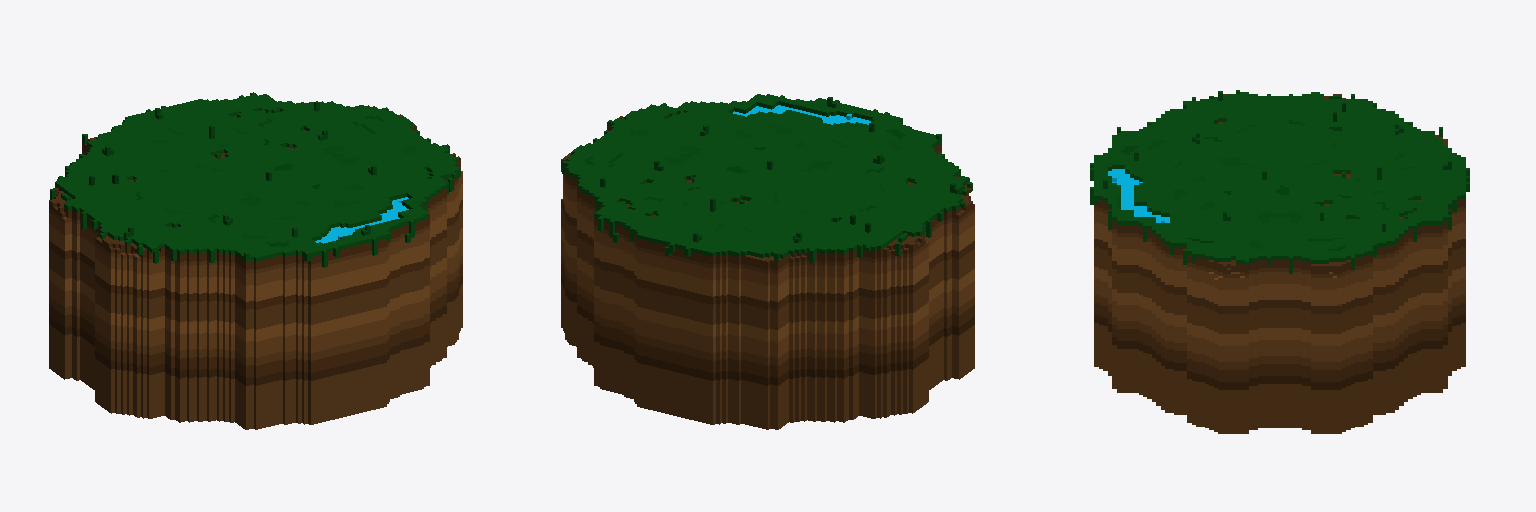
The picture shows the model from 3 angles: view 1: azimuth 30°, elevation 25°; view 2: azimuth 150°, elevation 25°; view 3: azimuth 270°, elevation 25°; orthographic projection.
Parts seen in each view (by area): view 1: object 1; view 2: object 1; view 3: object 1.
Boxes of the visible parts, x1,y1,x2,y2 form: object 1: [49, 92, 462, 429]; object 1: [561, 94, 974, 429]; object 1: [1090, 90, 1469, 433].
Bounding box in the file's own units: 9.2 × 4.6 × 8.6.
Materials: 1 (1 with a texture image).